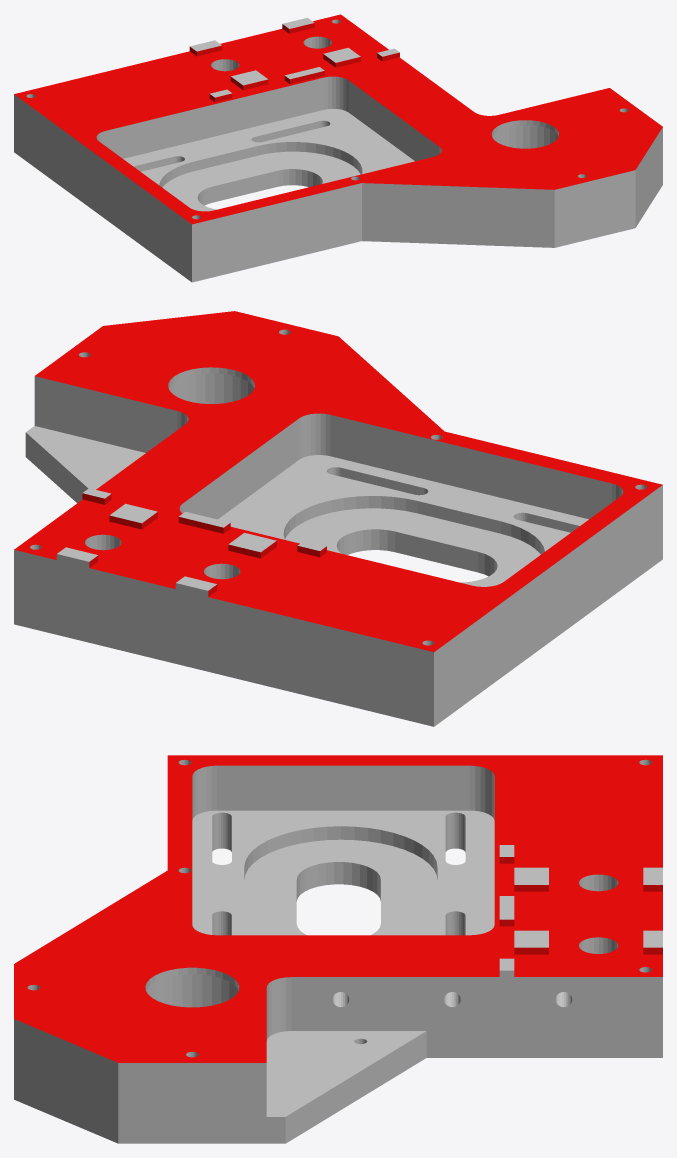
Rendered from 622006_rev4_Suporte_motor_da_balana_Body_step_1_7_9_11_15_16_17_18_19_20_22_23_24_25_27_28_29_30_42_43_44_45_47_48_49_50.obj.
The picture shows the model from 3 angles, top to bottom: view 1: azimuth 30°, elevation 25°; view 2: azimuth 150°, elevation 25°; view 3: azimuth 270°, elevation 25°; orthographic projection. The views are drawn at different scales.
Parts seen in each view (by area): view 1: Object1; view 2: Object1; view 3: Object1.
Part boxes in pixels (x1,y1,x2,y2): Object1: (14, 14, 662, 282); Object1: (14, 311, 662, 726); Object1: (14, 755, 662, 1143).
Size of the model in its own units: 147 by 19.5 by 131.
